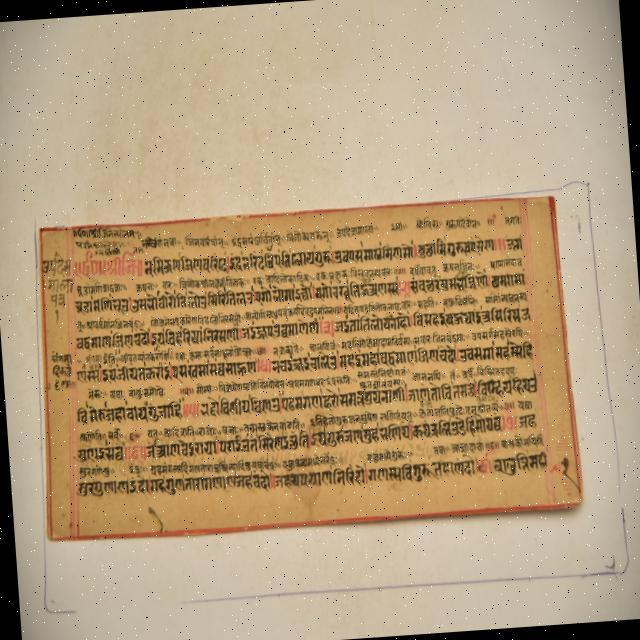text_paragraph: (39, 191, 579, 531)
